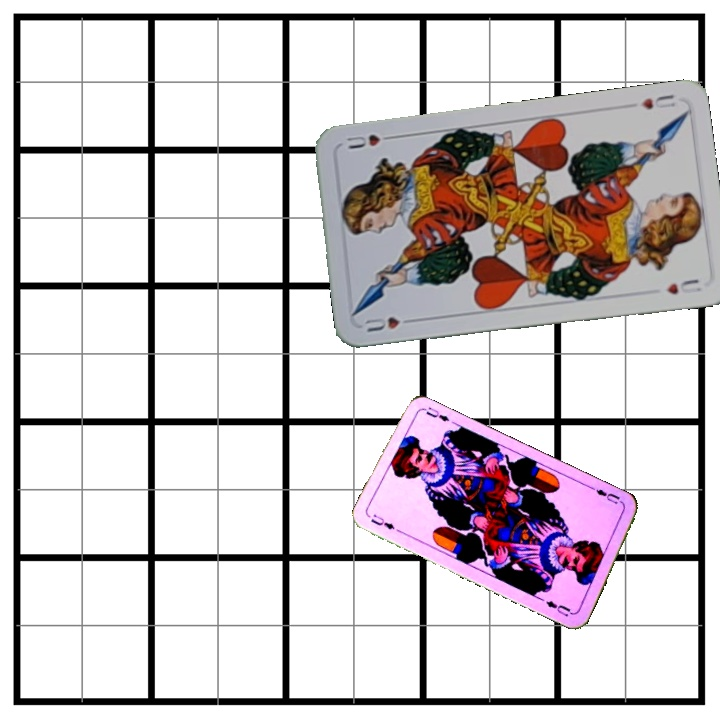EU: (588, 483, 626, 507), (366, 510, 397, 532)
HU: (361, 313, 418, 335), (638, 90, 678, 112)
